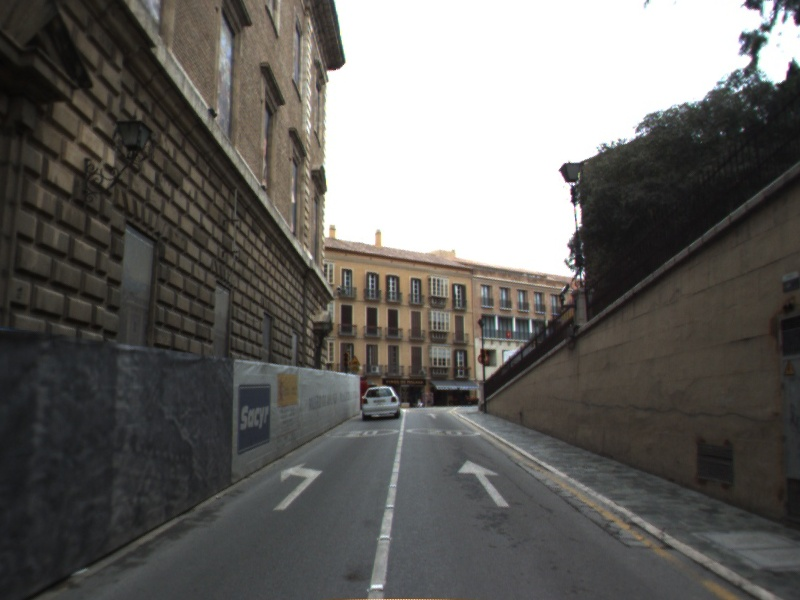LEFT: (270, 460, 324, 512)
STRAIGHT: (456, 458, 511, 508), (424, 410, 440, 421)
